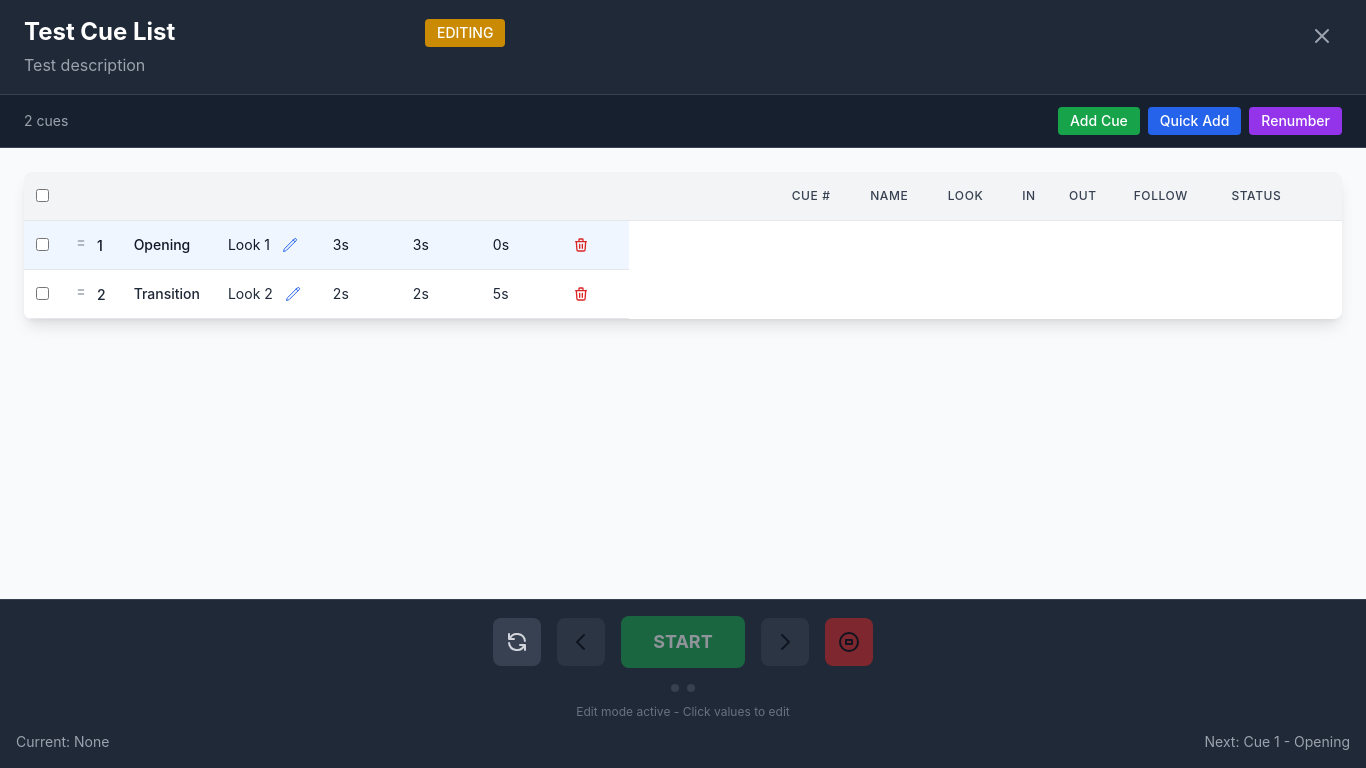
Test case: CueListUnifiedView › modal management › opens bulk update modal when cues are selected
Expected: the text "EDITING" is shown, [425,18,505,46]
# Select a cue
Click the 2nd checkbox. click: (42, 244)
box: [36,238,49,251]
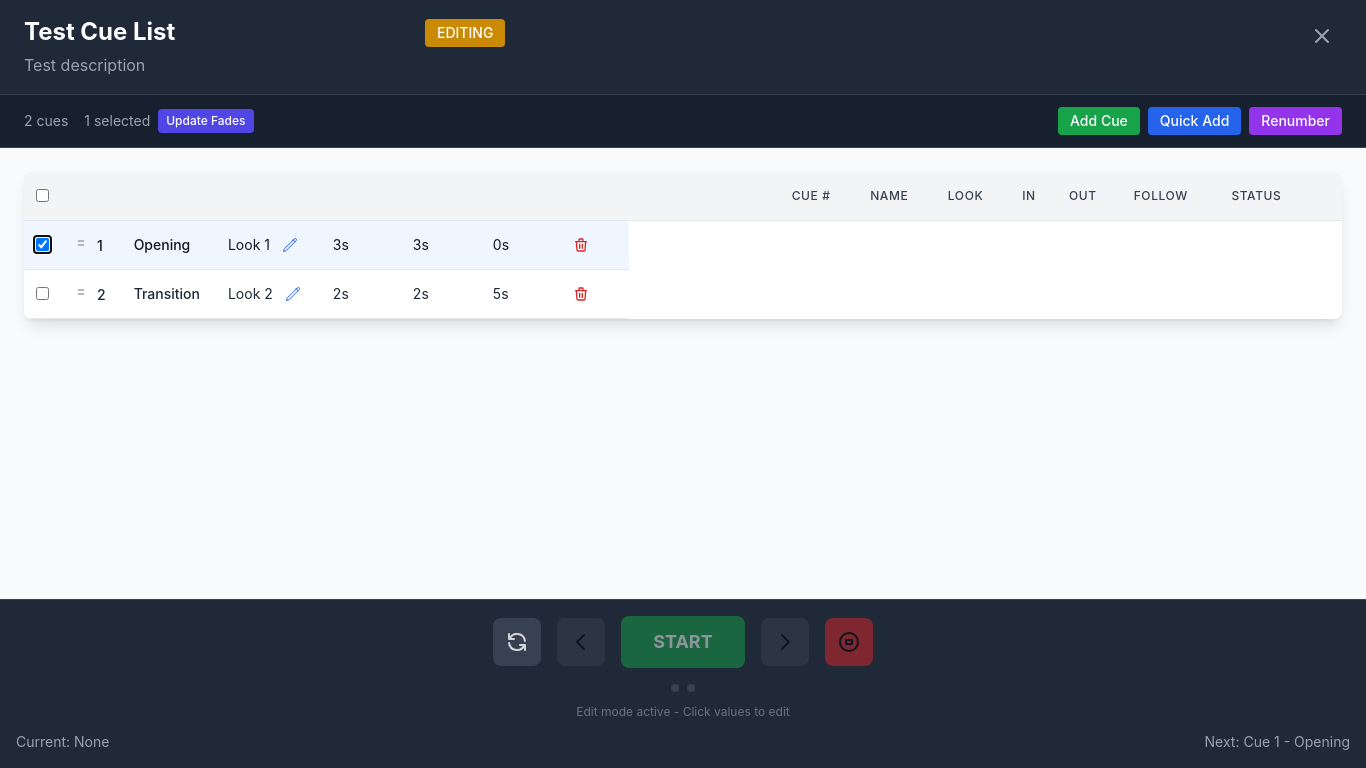
Click the button "Update Fades". click: (206, 121)
box: [158,109,254,133]
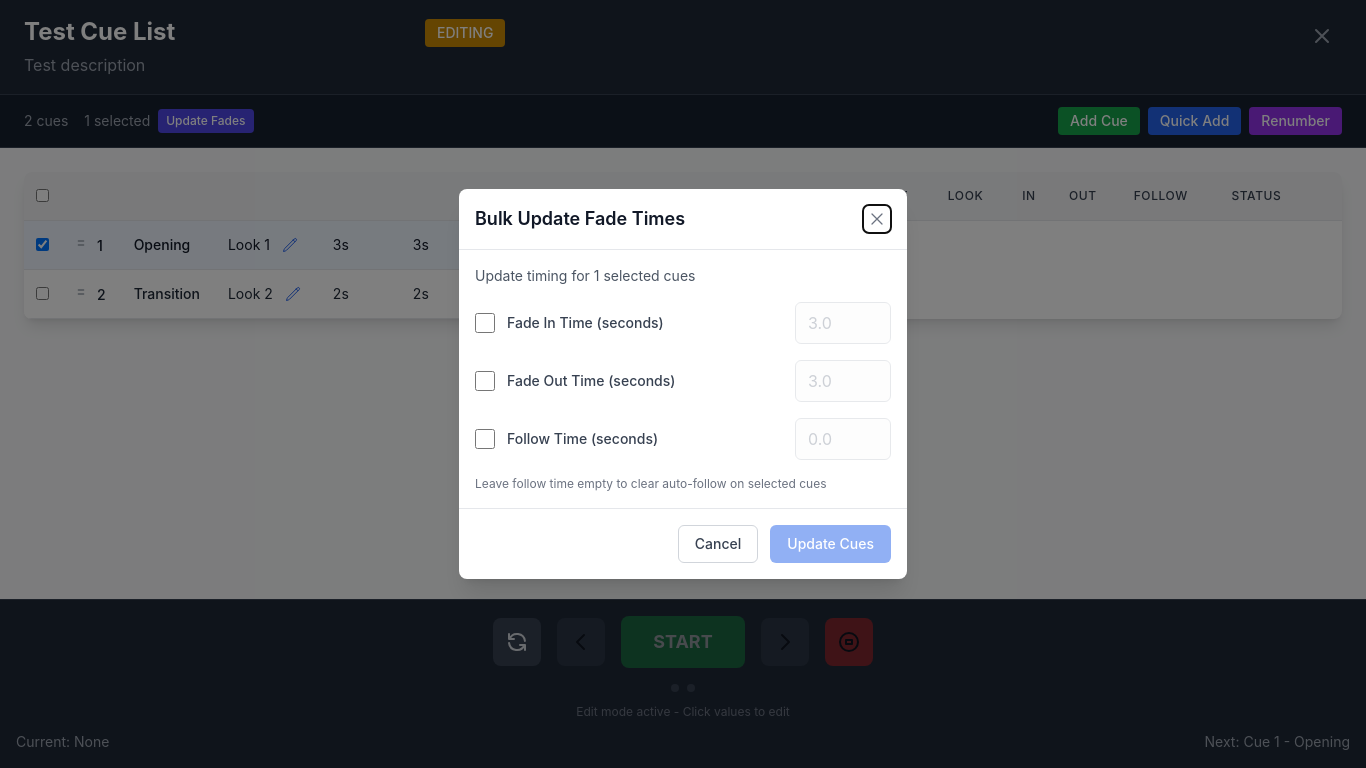
Expected: the dialog with test id "bulk-fade-update-modal" is shown, [459,189,907,579]
